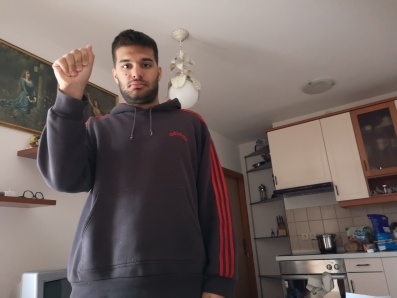A: (52, 43, 96, 88)
